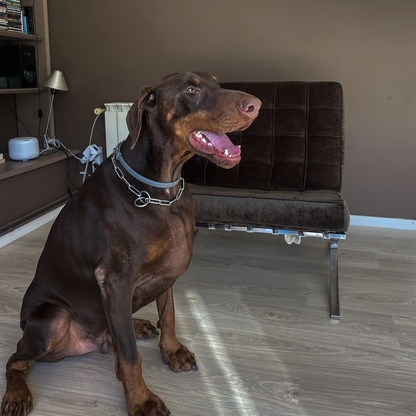doberman: (36, 65, 265, 415)
